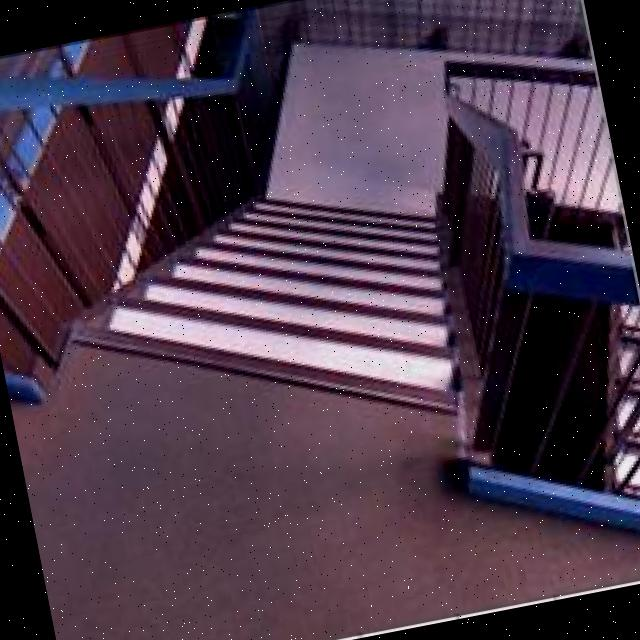stairs: (69, 89, 473, 522)
